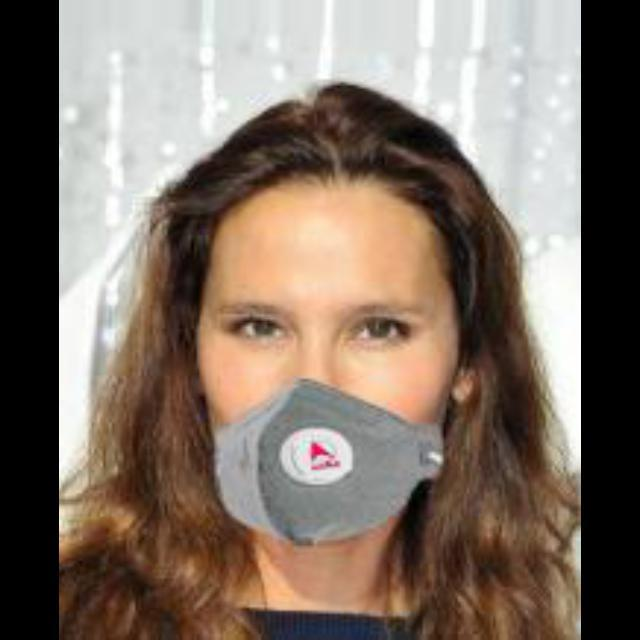suspicion: (208, 138, 494, 556)
